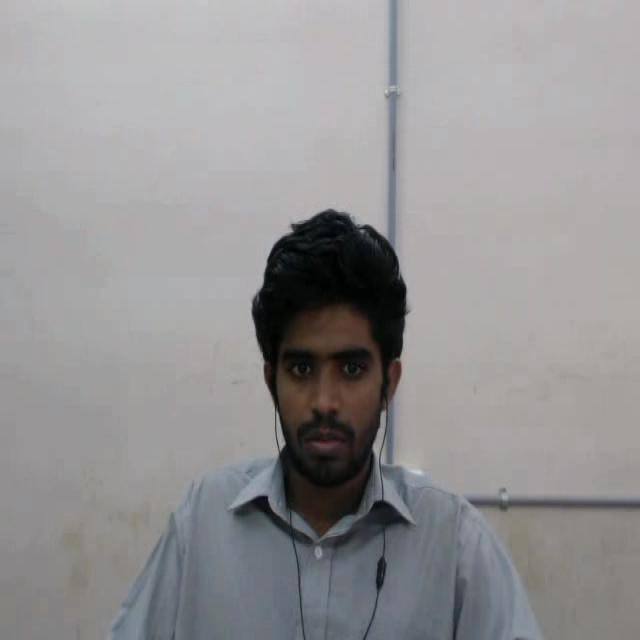Engaged: (240, 190, 439, 516)
